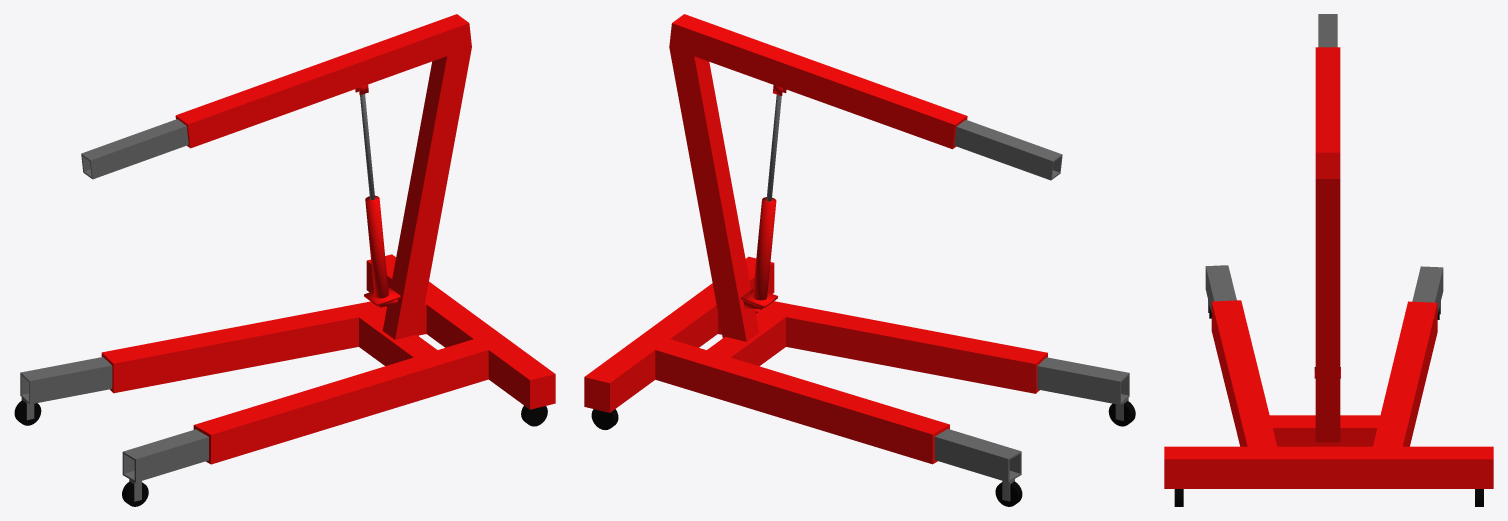
The model's file is Engine+Hoist.fbx.
3 views of the same model, side by side, from view 1: azimuth 30°, elevation 25°; view 2: azimuth 150°, elevation 25°; view 3: azimuth 270°, elevation 25° (orthographic).
Visible parts, largest first — view 1: Model; view 2: Model; view 3: Model.
Boxes of the visible parts, box(x1,y1,x2,y2) form: Model: box(20, 14, 555, 482); Model: box(584, 14, 1129, 482); Model: box(1164, 14, 1493, 488).
Bounding box in the file's own units: 8.09 × 6.68 × 5.63.
